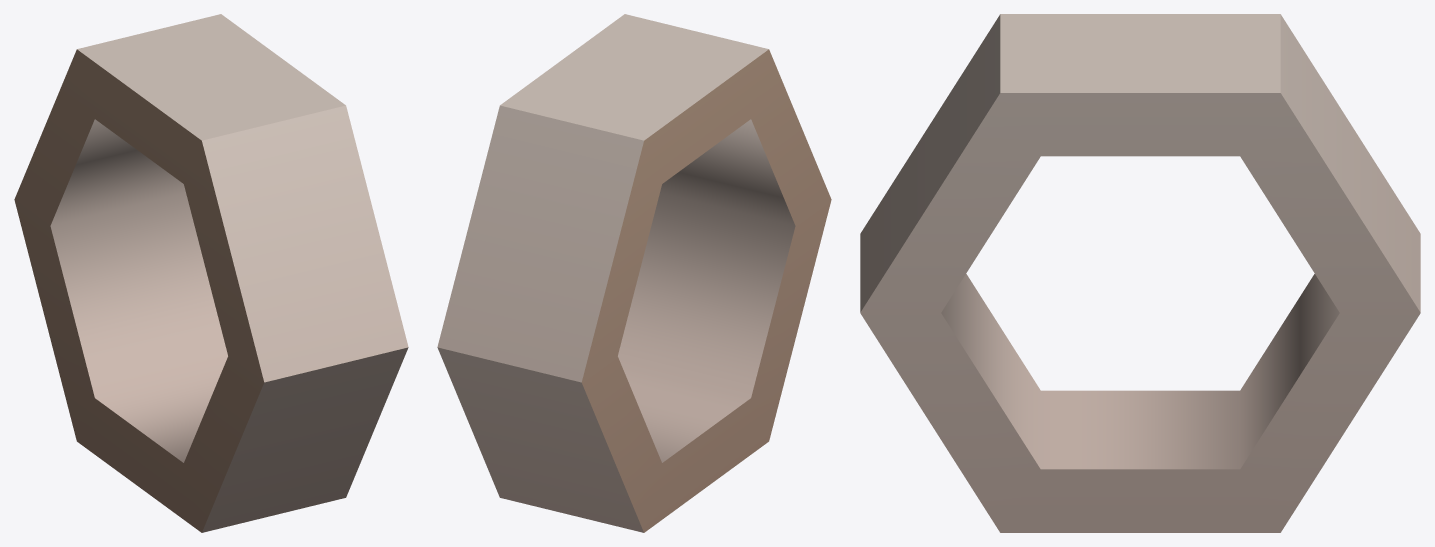
The model's file is shelf-hexagon (%wall).glb.
The picture shows the model from 3 angles, left to right: view 1: azimuth 30°, elevation 25°; view 2: azimuth 150°, elevation 25°; view 3: azimuth 270°, elevation 25°; orthographic projection. The views are drawn at different scales.
Parts seen in each view (by area): view 1: shelf-hexagon (%wall); view 2: shelf-hexagon (%wall); view 3: shelf-hexagon (%wall).
Part boxes in pixels (x1,y1,x2,y2): shelf-hexagon (%wall): [14, 14, 408, 532]; shelf-hexagon (%wall): [437, 14, 831, 532]; shelf-hexagon (%wall): [860, 14, 1420, 532].
Size of the model in its own units: 0.2 by 0.5196 by 0.6.
